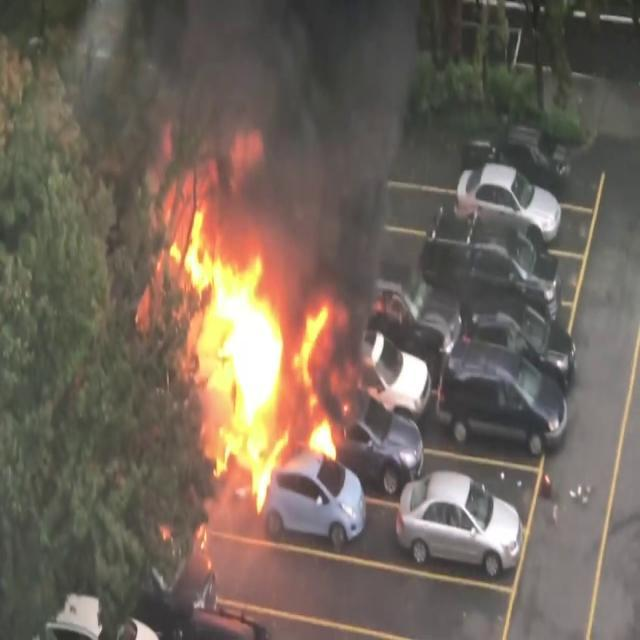Fire: (159, 180, 347, 504)
Smoke: (59, 0, 444, 281)
